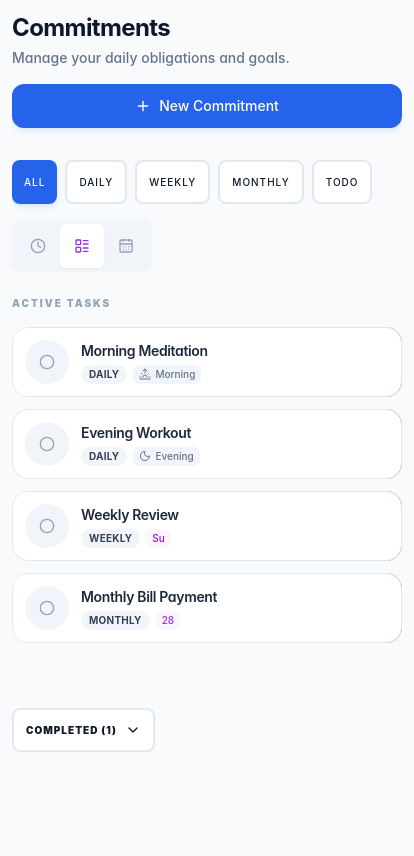
CommitmentsView › Task Filtering › filters to show only daily tasks
Click the button "daily".
click(96, 182)  # box x1=65 y1=160 x2=127 y2=204
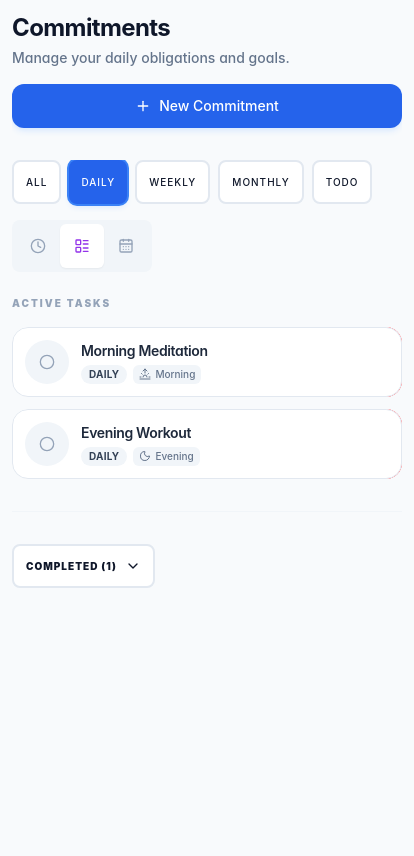
Expected: the button "Morning Meditation" is shown, x1=81 y1=340 x2=208 y2=360
Expected: the button "Weekly Review" is gone
Expected: the button "Monthly Bill Payment" is gone
